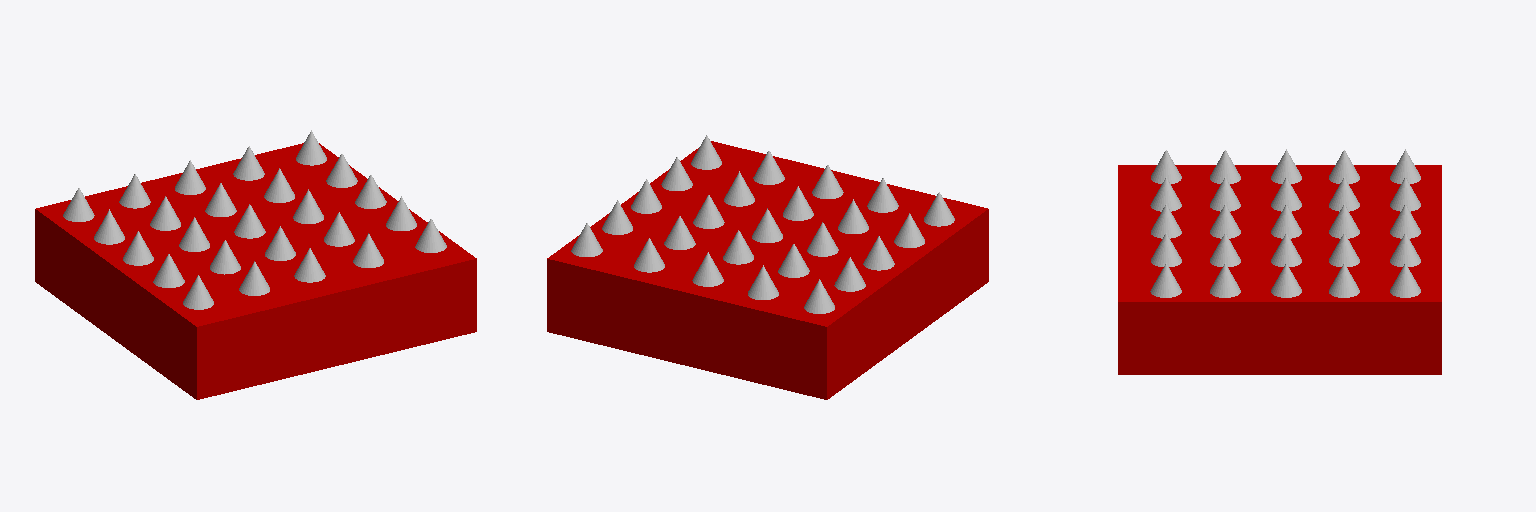
Rendered from tuzak.obj.
3 views of the same model, side by side, from view 1: azimuth 30°, elevation 25°; view 2: azimuth 150°, elevation 25°; view 3: azimuth 270°, elevation 25° (orthographic).
Parts seen in each view (by area): view 1: Cube_Cube.001, Cone_Cone.001; view 2: Cube_Cube.001, Cone_Cone.001; view 3: Cube_Cube.001, Cone_Cone.001.
Part boxes in pixels (x1,y1,x2,y2): Cube_Cube.001: (35, 143, 476, 399); Cone_Cone.001: (63, 130, 446, 309); Cube_Cube.001: (547, 141, 988, 399); Cone_Cone.001: (571, 135, 954, 313); Cube_Cube.001: (1118, 165, 1441, 374); Cone_Cone.001: (1150, 149, 1420, 297).
Bounding box in the file's own units: 4 × 1.39 × 4.